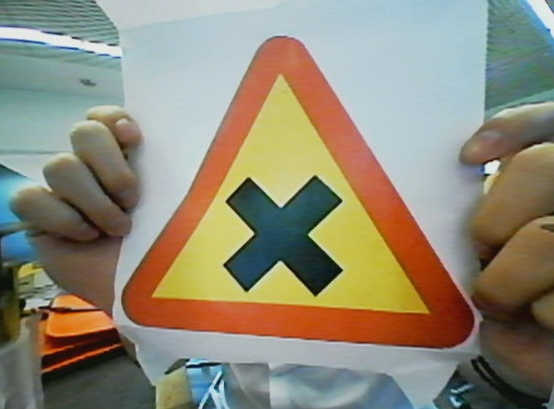junction: (114, 20, 491, 366)
